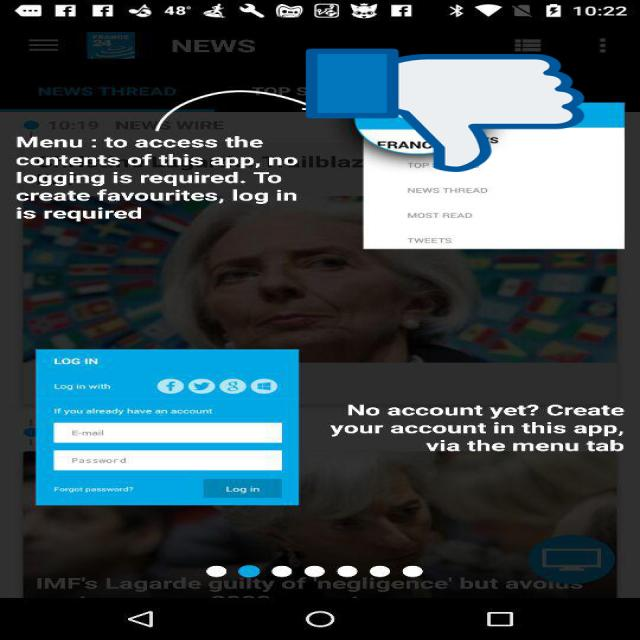obstruction: (306, 46, 584, 175)
